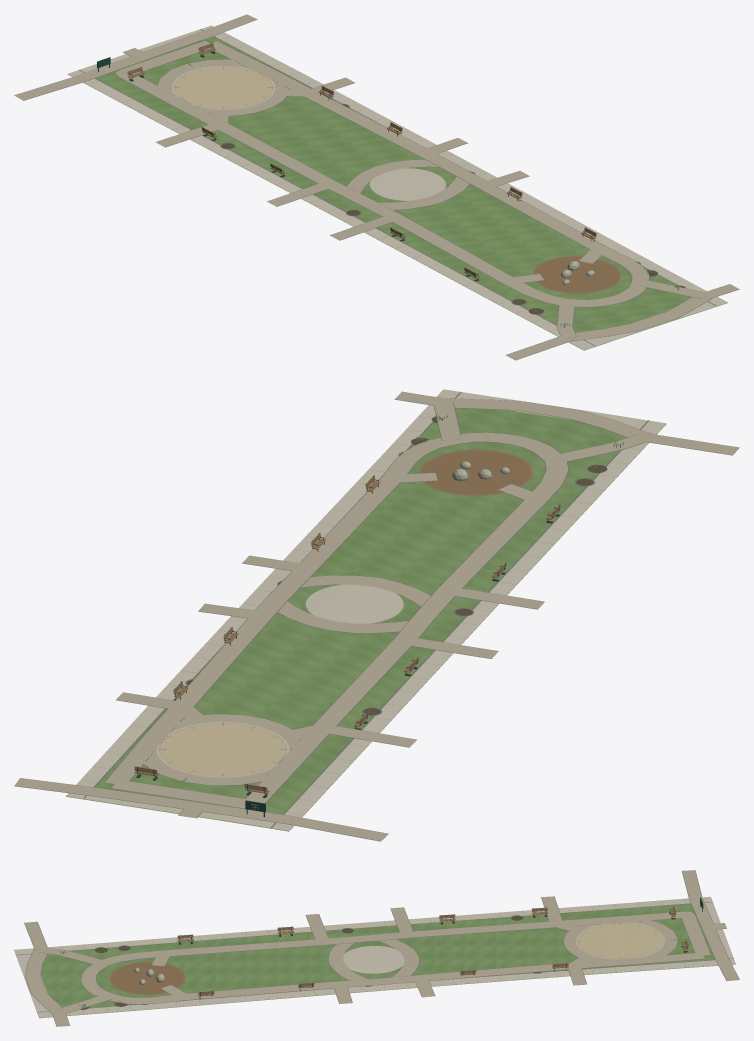
File: patricias-green.glb
3 renders of one model, top to bottom at view 1: azimuth 30°, elevation 25°; view 2: azimuth 150°, elevation 25°; view 3: azimuth 270°, elevation 25°, orthographic. The views are drawn at different scales.
Parts seen in each view (by area): view 1: Patricia / tended green lawn, Patricia / sand concrete pavers, Patricia / warm pale concrete, Patricia / charcoal concrete edge, Patricia / pale plaza gravel, Patricia / playground natural mulch, Patricia / weathered redwood seating; view 2: Patricia / tended green lawn, Patricia / sand concrete pavers, Patricia / warm pale concrete, Patricia / charcoal concrete edge, Patricia / pale plaza gravel, Patricia / playground natural mulch, Patricia / weathered redwood seating; view 3: Patricia / tended green lawn, Patricia / sand concrete pavers, Patricia / warm pale concrete, Patricia / charcoal concrete edge, Patricia / pale plaza gravel, Patricia / playground natural mulch, Patricia / weathered redwood seating, tree bed soil.
Part boxes in pixels (box(x1,y1,x2,y2)): Patricia / tended green lawn: box(68, 36, 727, 350); Patricia / sand concrete pavers: box(15, 14, 739, 359); Patricia / warm pale concrete: box(68, 25, 727, 349); Patricia / charcoal concrete edge: box(14, 14, 739, 360); Patricia / pale plaza gravel: box(174, 67, 272, 108); Patricia / playground natural mulch: box(534, 257, 618, 292); Patricia / weathered redwood seating: box(127, 43, 620, 293); Patricia / tended green lawn: box(66, 408, 666, 831); Patricia / sand concrete pavers: box(14, 392, 739, 840); Patricia / warm pale concrete: box(66, 389, 666, 830); Patricia / charcoal concrete edge: box(14, 391, 739, 841); Patricia / pale plaza gravel: box(159, 723, 285, 775); Patricia / playground natural mulch: box(421, 450, 530, 494); Patricia / weathered redwood seating: box(134, 449, 560, 793); Patricia / tended green lawn: box(15, 904, 735, 1018); Patricia / sand concrete pavers: box(24, 870, 739, 1026); Patricia / warm pale concrete: box(14, 896, 735, 1017); Patricia / charcoal concrete edge: box(16, 870, 739, 1026); Patricia / pale plaza gravel: box(578, 923, 662, 958); Patricia / playground natural mulch: box(111, 962, 183, 994); Patricia / weathered redwood seating: box(109, 905, 688, 996); tree bed soil: box(80, 915, 541, 1009).
Size of the model in its own units: 45.2 by 2.49 by 93.1.
Materials: 13 (8 with a texture image).
